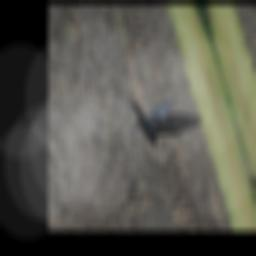Crow: (123, 87, 212, 155)
